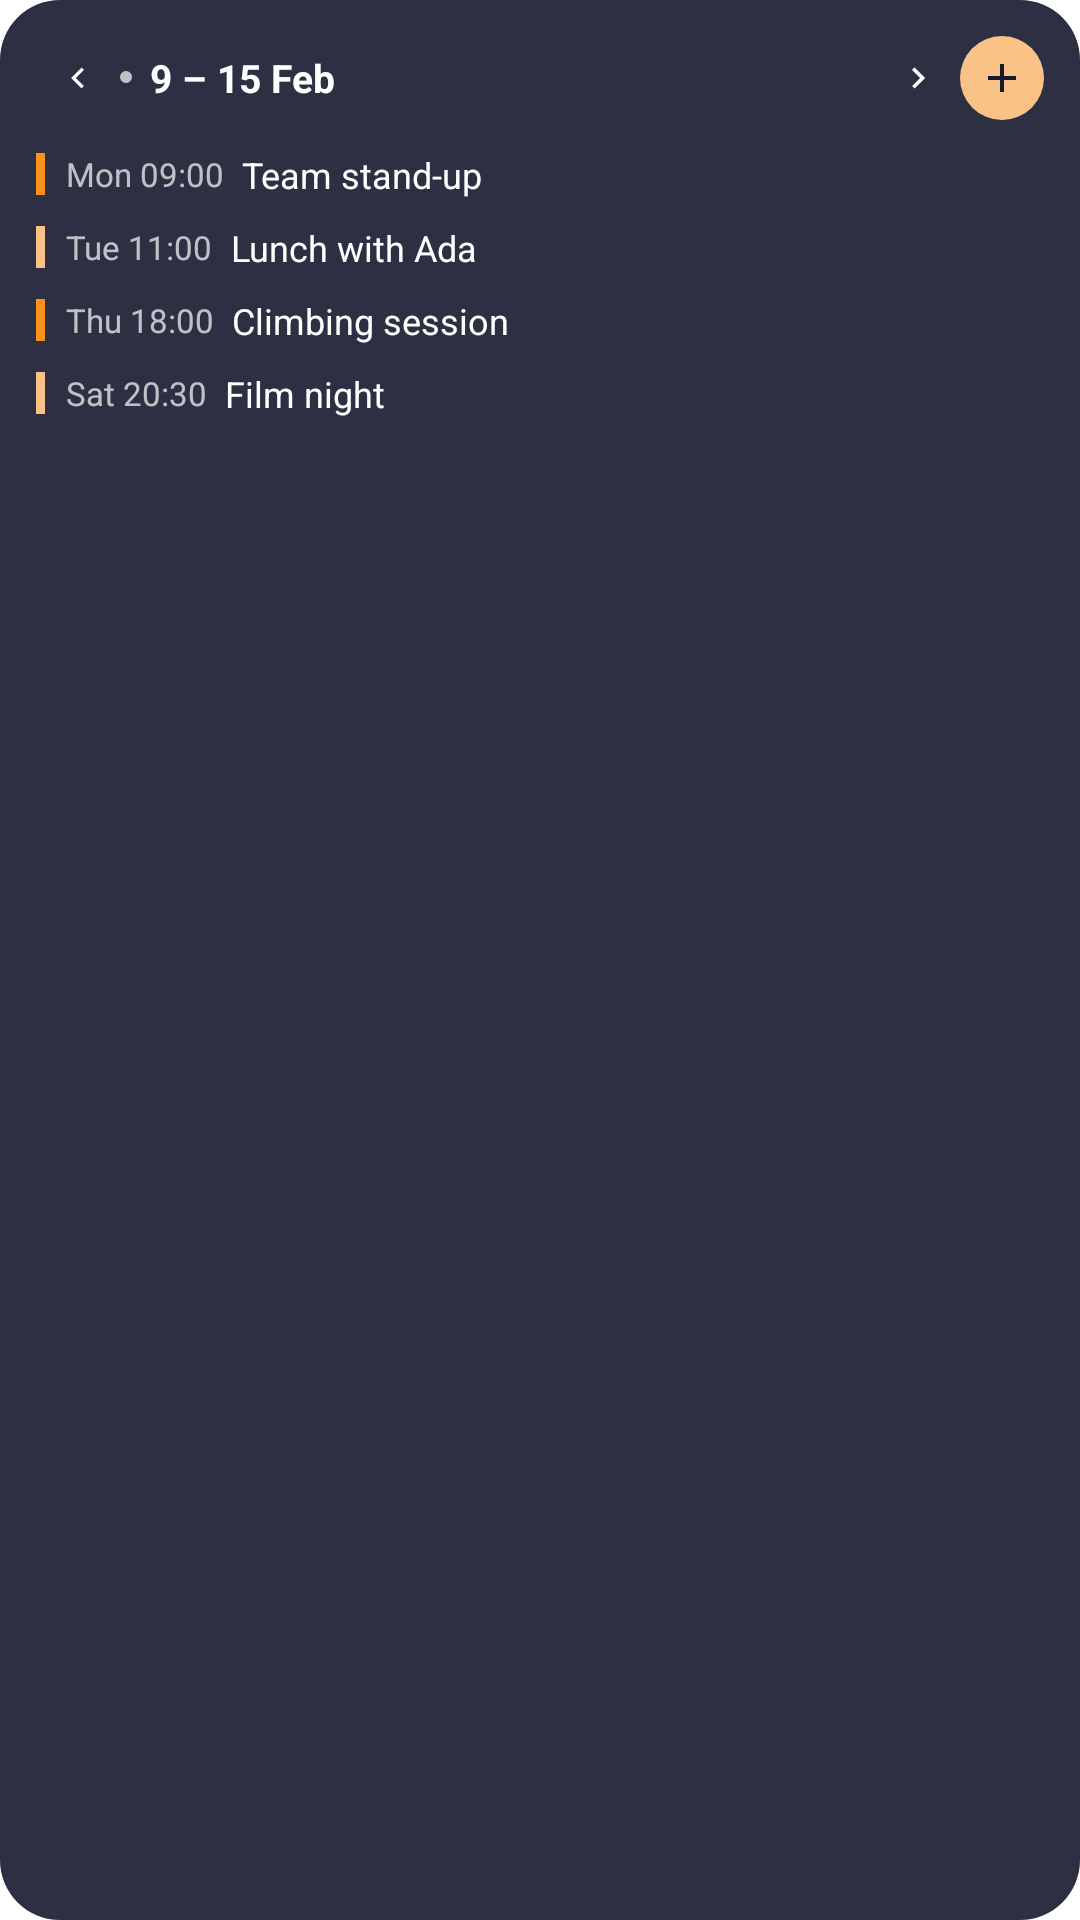

Icon bounding boxes for this 1080 x 1920 phone screenshot, format box=[x1, y1, x2, y2]:
New event: box=[960, 36, 1044, 120]
